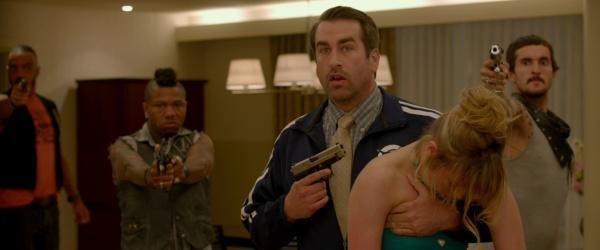Gun: (290, 142, 348, 186), (489, 43, 505, 73), (156, 152, 173, 177), (18, 77, 30, 94)
